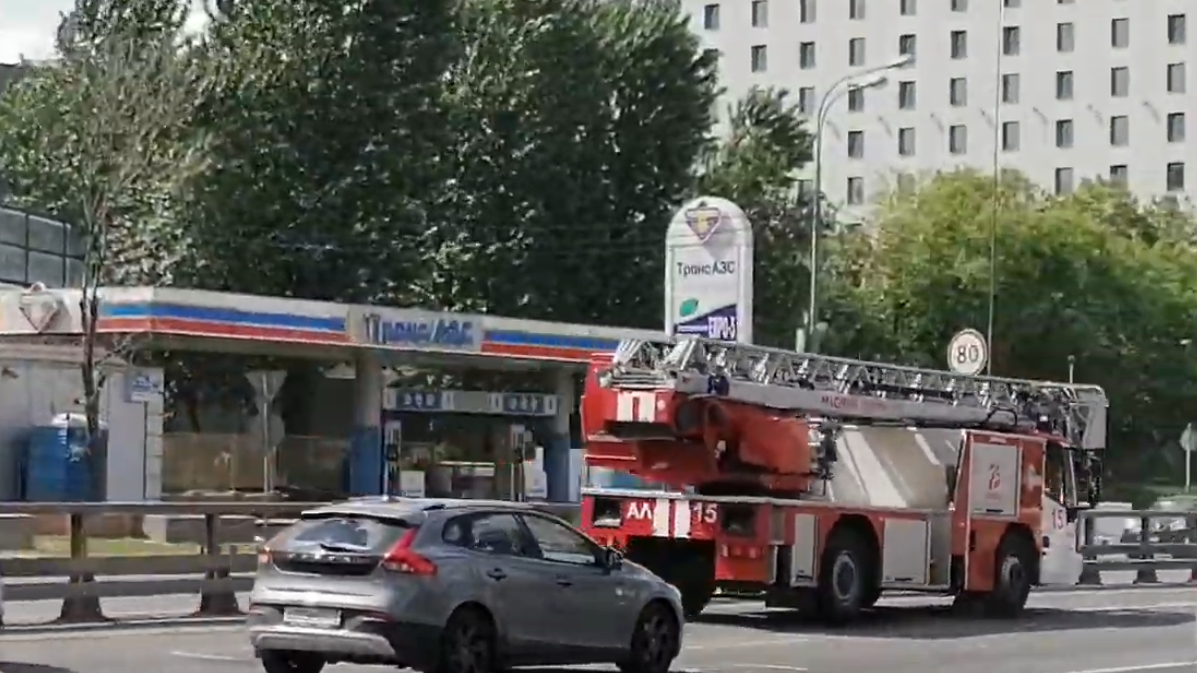fire fighting vehicle: (588, 332, 1100, 621)
non emergency car: (254, 493, 684, 671)
